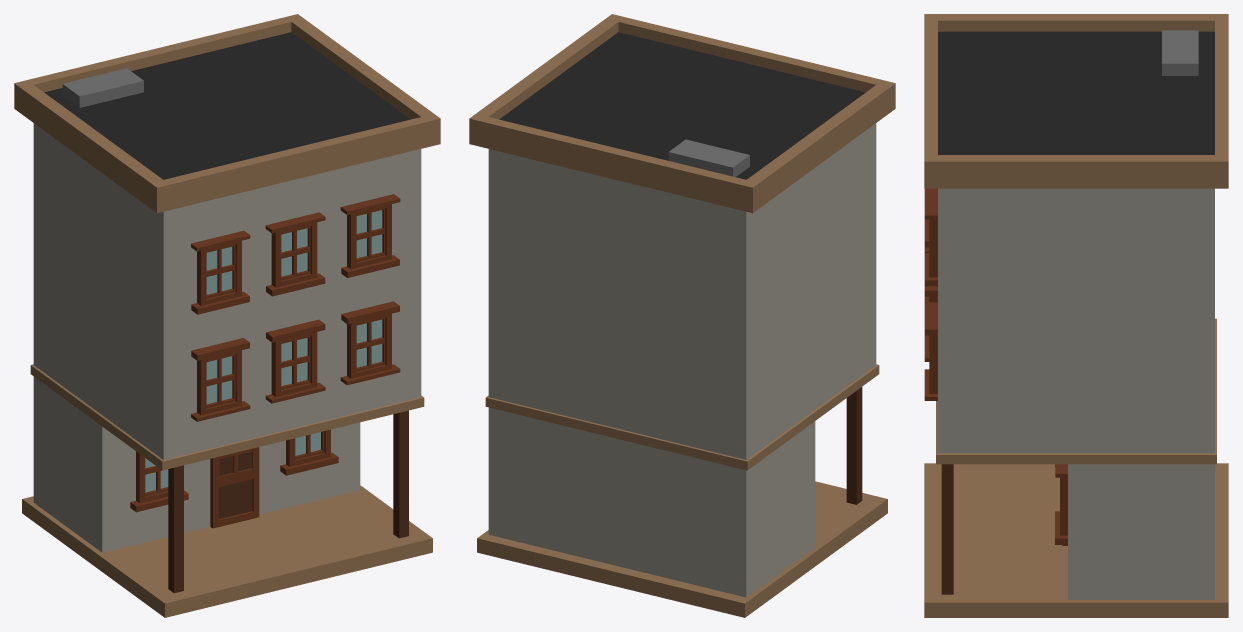
The model's file is bati-Flat2.glb.
3 renders of one model, left to right at view 1: azimuth 30°, elevation 25°; view 2: azimuth 150°, elevation 25°; view 3: azimuth 270°, elevation 25°, orthographic. The views are drawn at different scales.
Parts seen in each view (by area): view 1: Flat2_Cube.013; view 2: Flat2_Cube.013; view 3: Flat2_Cube.013.
Part boxes in pixels (left/top/right/bottom): Flat2_Cube.013: left=14, top=14, right=440, bottom=617; Flat2_Cube.013: left=469, top=14, right=895, bottom=617; Flat2_Cube.013: left=924, top=14, right=1228, bottom=617.
Size of the model in its own units: 2.17 by 3.17 by 1.89.
Materials: 1 (1 with a texture image).
